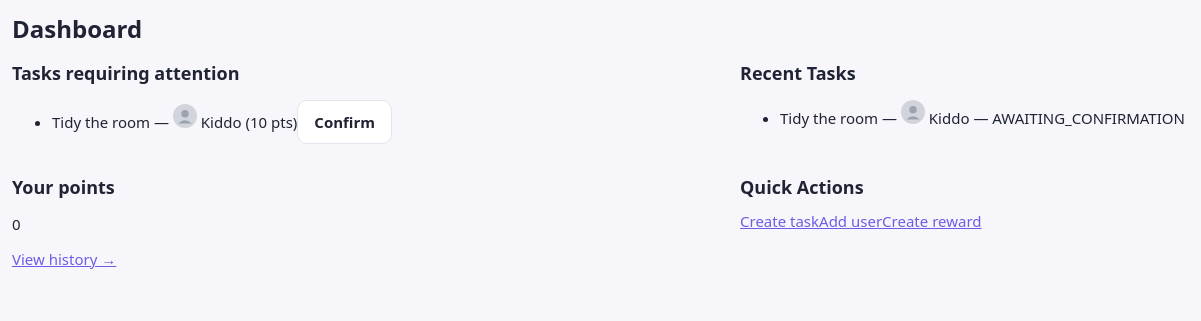
DashboardPage › keeps an execution visible with an error if confirmation fails
This screenshot has width=1201, height=321.
What coordinates should you click on to do the following:
click the button "Confirm"
I would click on:
 (345, 122)
Its box is [297,100,392,144].
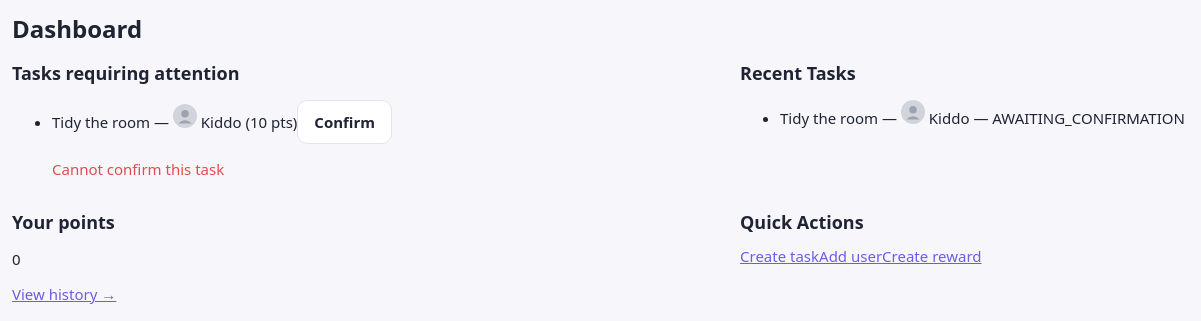
Now the text "Cannot confirm this task" is shown, box [52,159,224,179]
